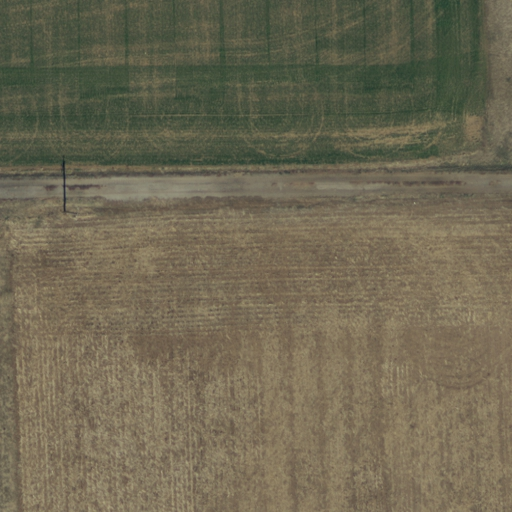DT: (54, 200, 85, 226)
